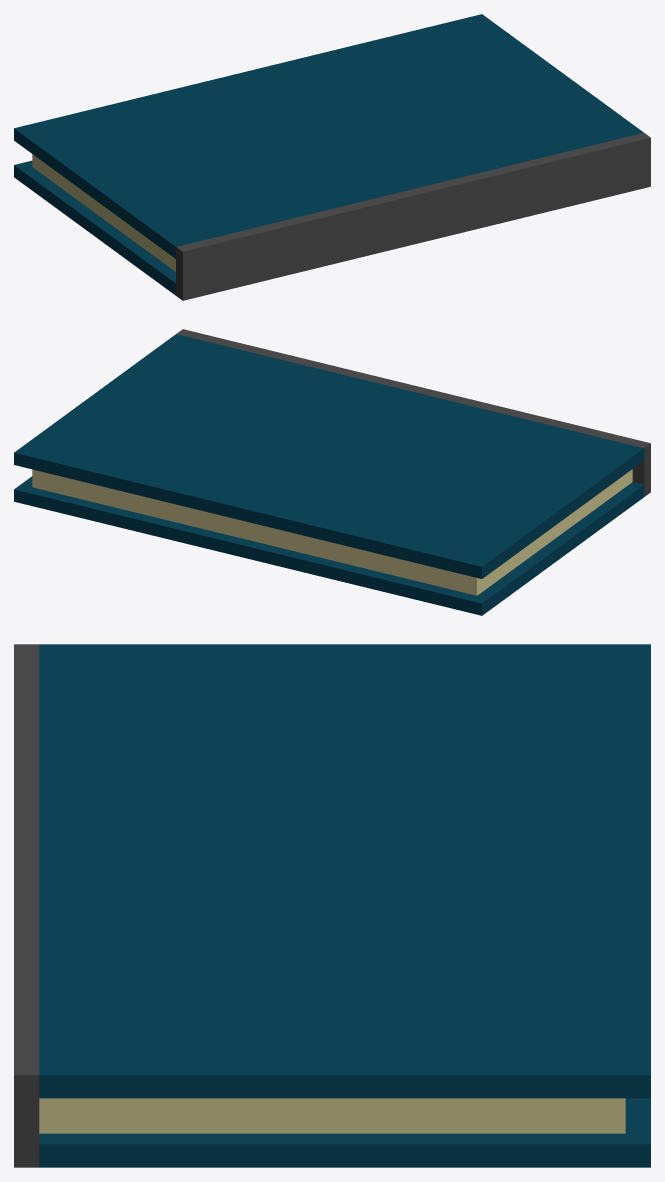
File: Book00.gltf
3 views of the same model, one above another, from view 1: azimuth 30°, elevation 25°; view 2: azimuth 150°, elevation 25°; view 3: azimuth 270°, elevation 25° (orthographic). The views are drawn at different scales.
Parts seen in each view (by area): view 1: Layer.1; view 2: Layer.1; view 3: Layer.1.
Boxes of the visible parts, x1,y1,x2,y2 form: Layer.1: [14, 14, 650, 300]; Layer.1: [14, 329, 650, 615]; Layer.1: [14, 644, 650, 1167].
Size of the model in its own units: 40 by 4 by 25.
